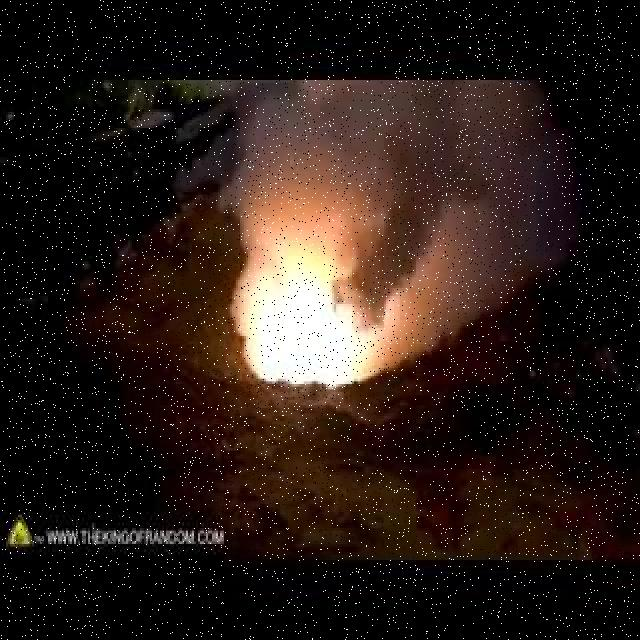fire: (242, 234, 382, 397)
smoke: (254, 82, 565, 242)
